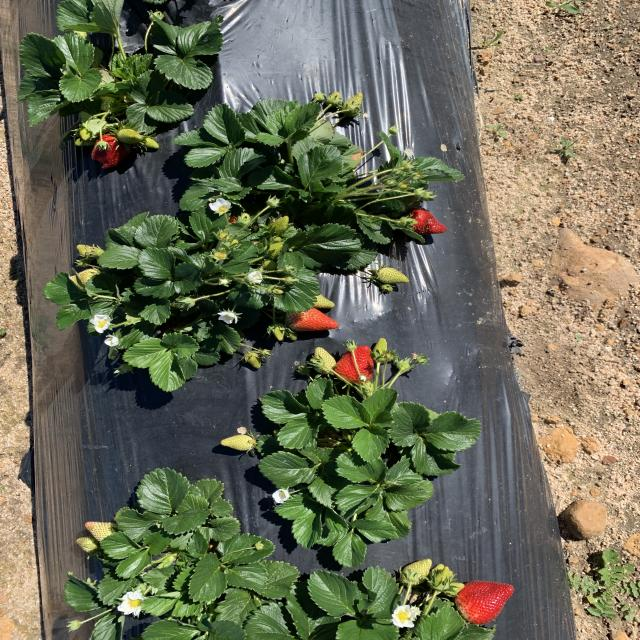unripe: (450, 579, 520, 625), (279, 300, 340, 334), (332, 340, 377, 385), (88, 125, 129, 173), (400, 208, 448, 236)
